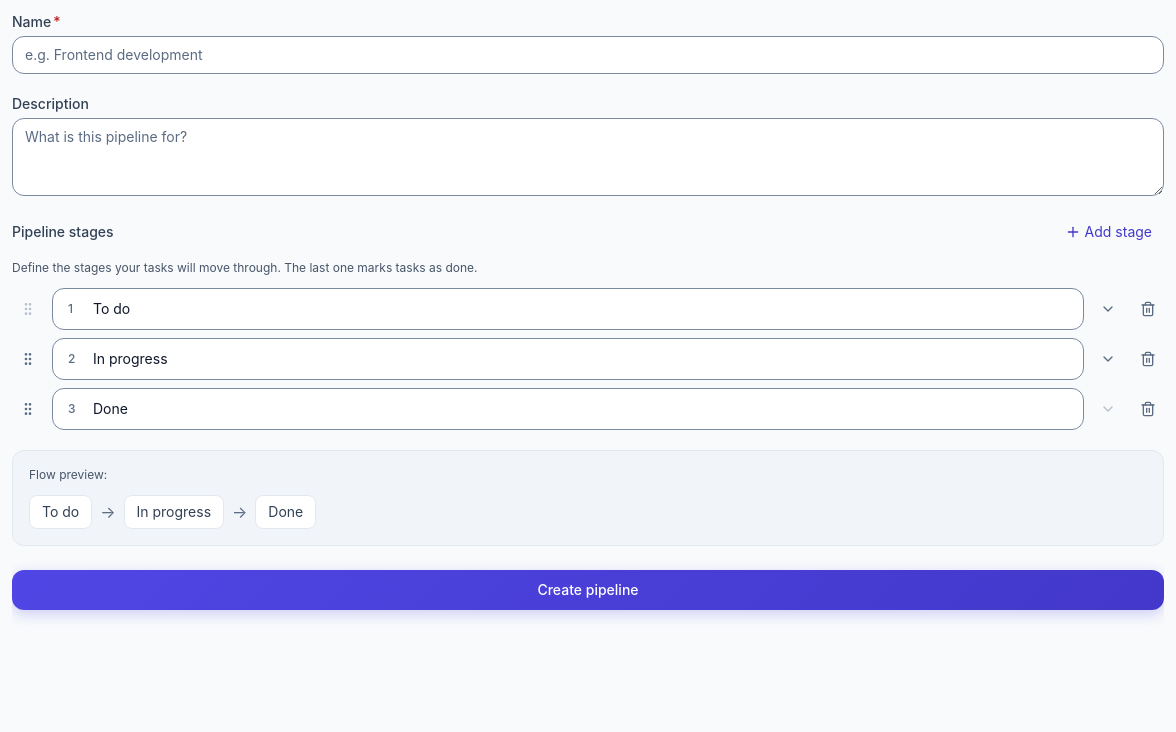
Scenario: CreatePipelineForm stages › adds an empty numbered row, focuses it and previews it with a fallback name
Click the button "Add stage".
click(1108, 232)  # box 1053,216 -> 1164,248
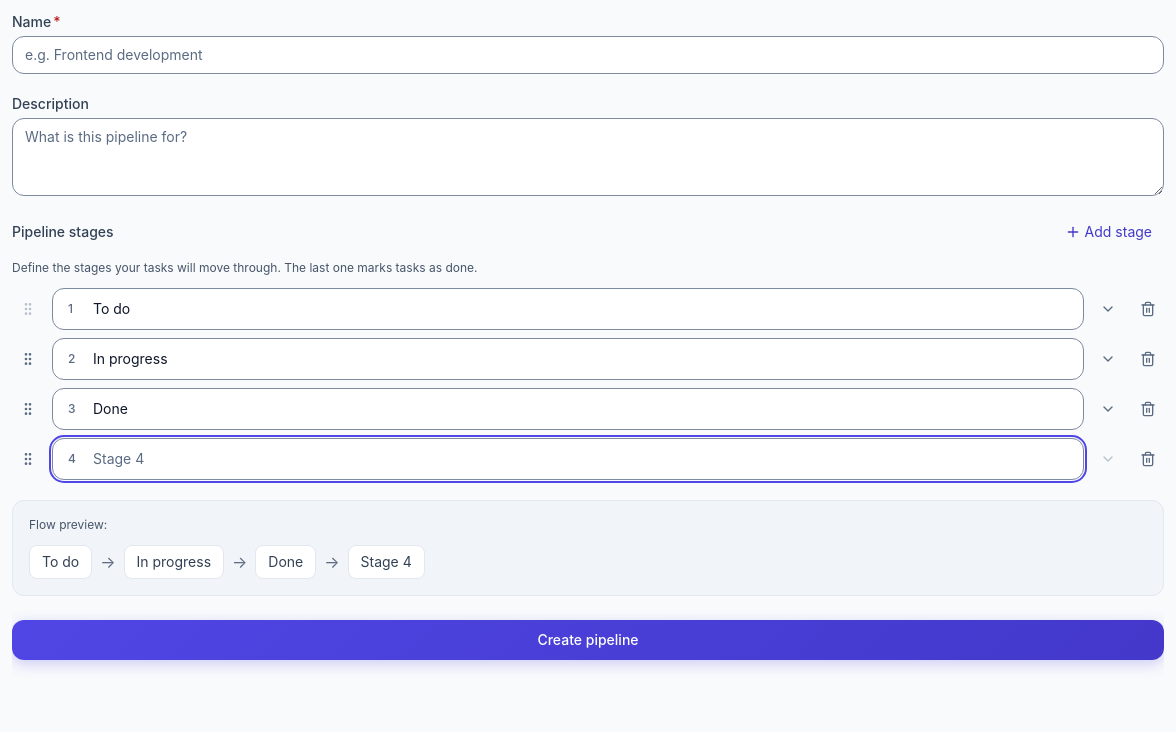
Now the list "To do → In progress → Done → Stage 4" is shown, box 29,545 -> 425,579
Type "Shipped" into the field labelled "Stage 4".
click(568, 459); type("Shipped")  # box 52,438 -> 1084,480
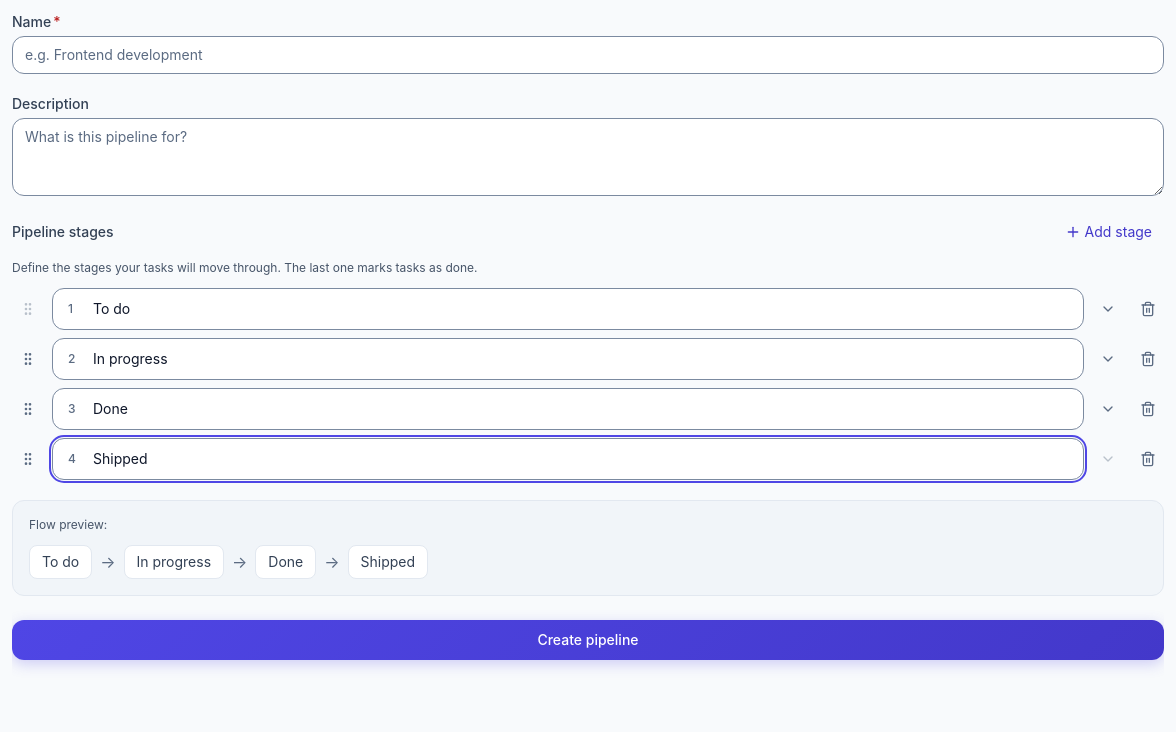
Now the list "To do → In progress → Done → Shipped" is shown, box 29,545 -> 428,579
